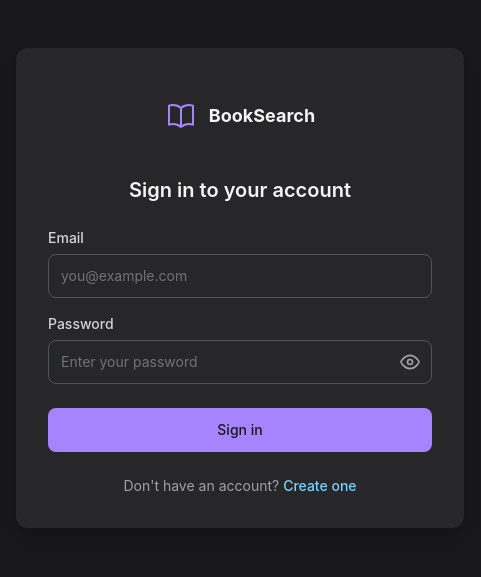
Test: LoginView client-side validation › shows validation error when password is too short
In the field labelled "Email": (240, 276) [48,254,432,298], type "user@example.com"
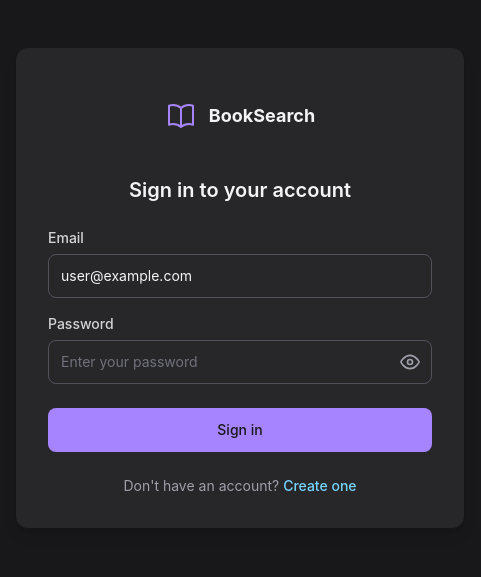
In the password field labelled "Password": (240, 362) [48,340,432,384], type "short"
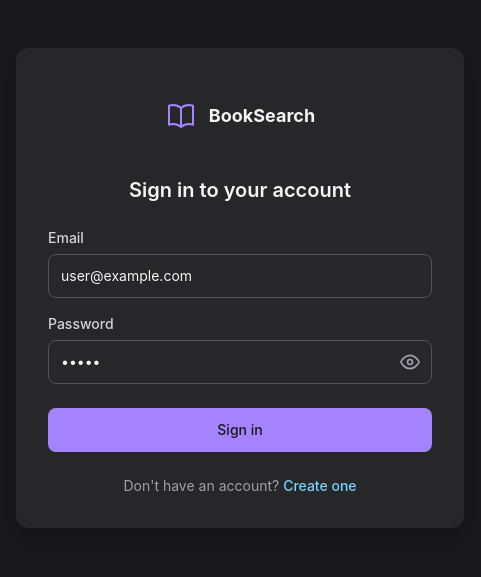
Submit the form, box [48,228,432,452]
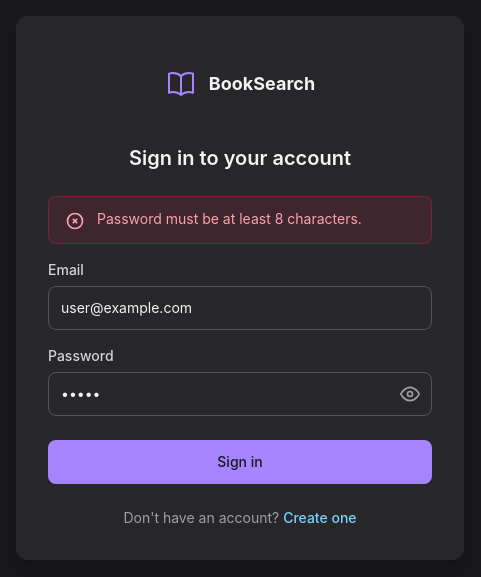
Now the message "Password must be at least 8 characters." is shown, box [48,196,432,244]
